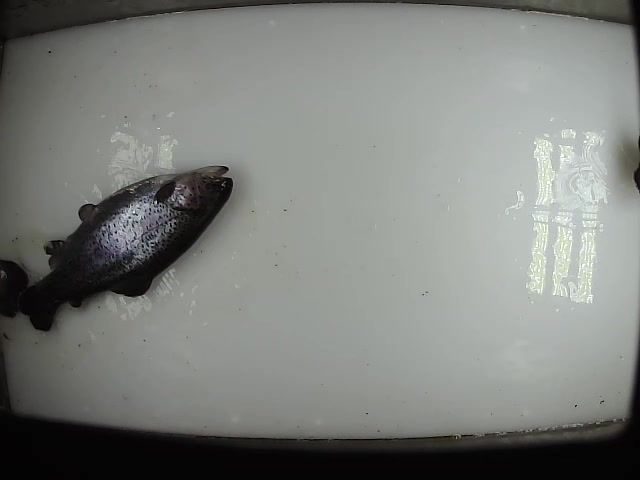fish: (18, 163, 235, 337)
